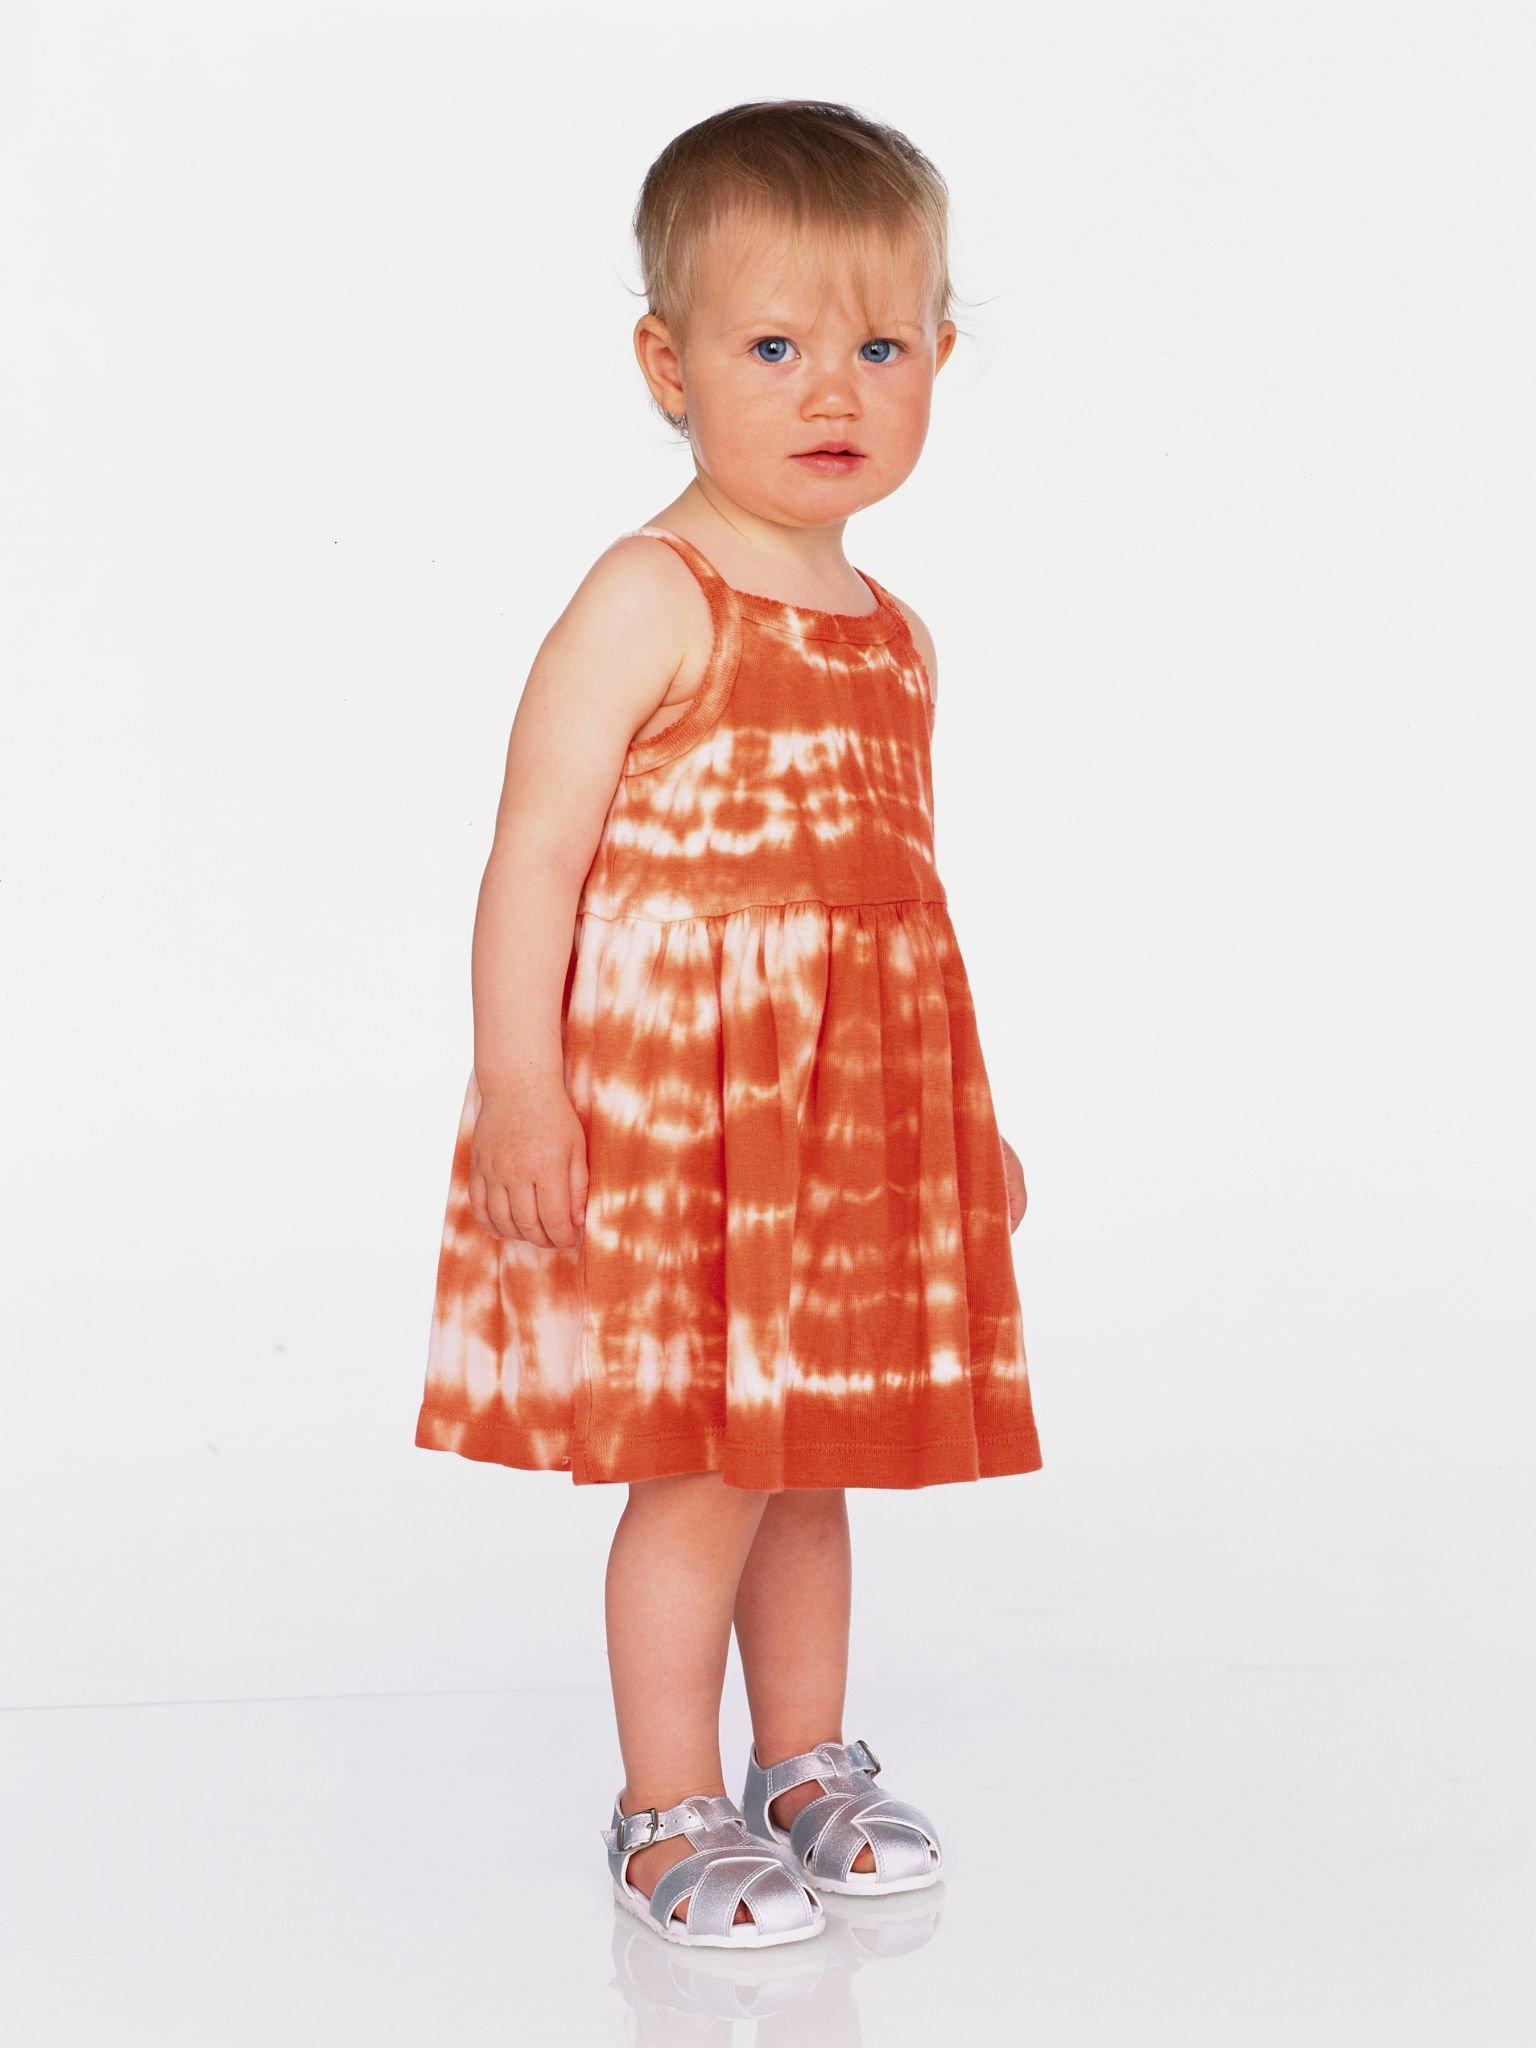Healthy: (632, 92, 965, 545)
